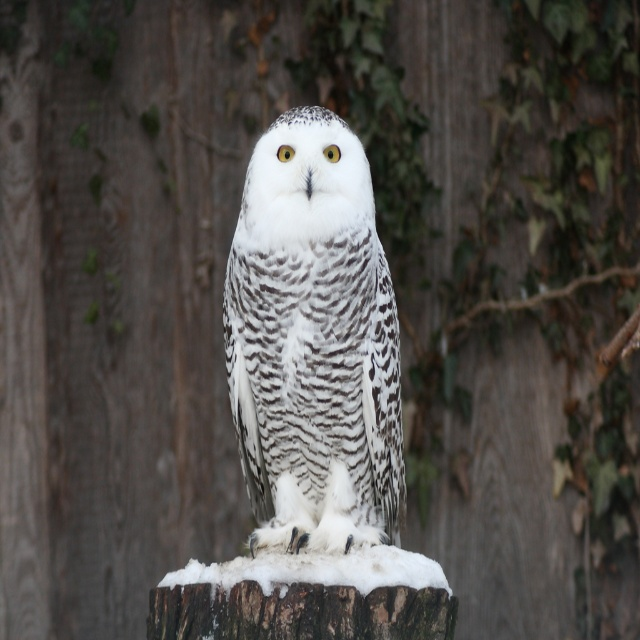Owl: (222, 106, 407, 555)
